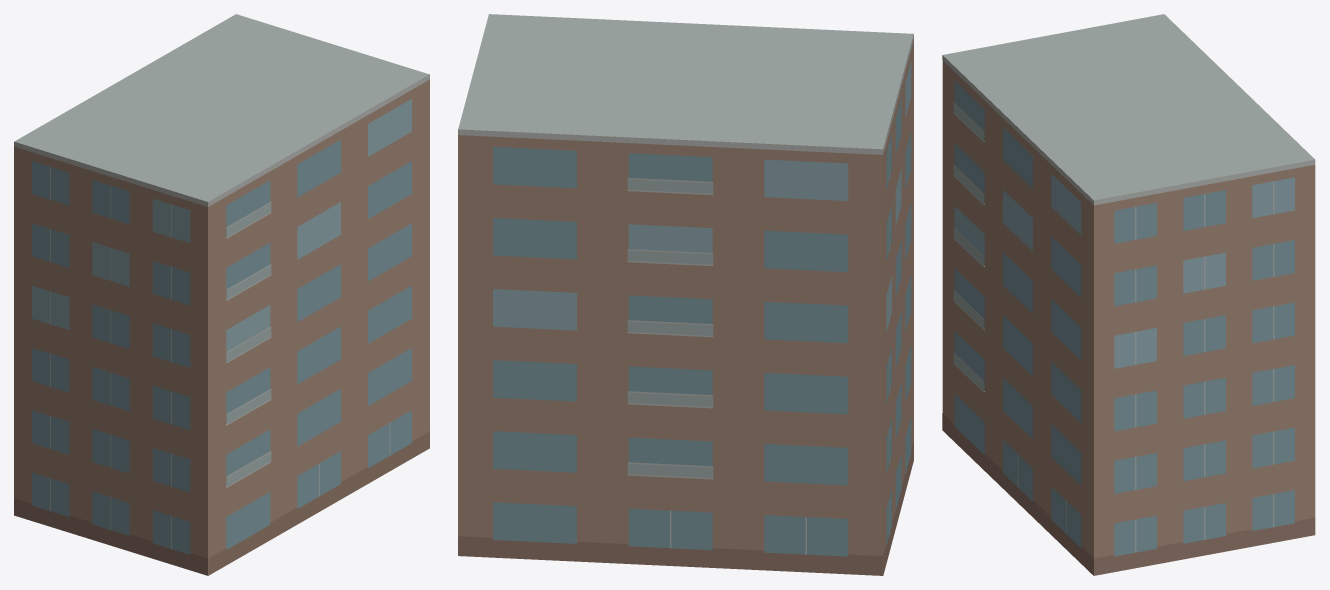
File: survey-upis-32945858.glb
3 renders of one model, left to right at view 1: azimuth 30°, elevation 25°; view 2: azimuth 150°, elevation 25°; view 3: azimuth 270°, elevation 25°, orthographic. The views are drawn at different scales.
Visible parts, largest first — view 1: survey-upis-32945858.tmp; view 2: survey-upis-32945858.tmp; view 3: survey-upis-32945858.tmp.
Part boxes in pixels (bbox=[...]): survey-upis-32945858.tmp: bbox=[14, 14, 429, 575]; survey-upis-32945858.tmp: bbox=[458, 14, 913, 575]; survey-upis-32945858.tmp: bbox=[942, 14, 1315, 575].
Bounding box in the file's own units: 19.51 × 18.3 × 16.49.
